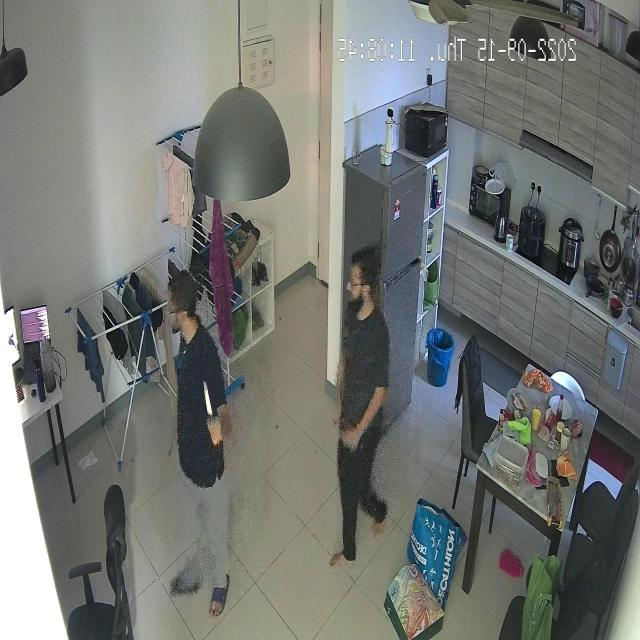Knife: (198, 373, 222, 431)
